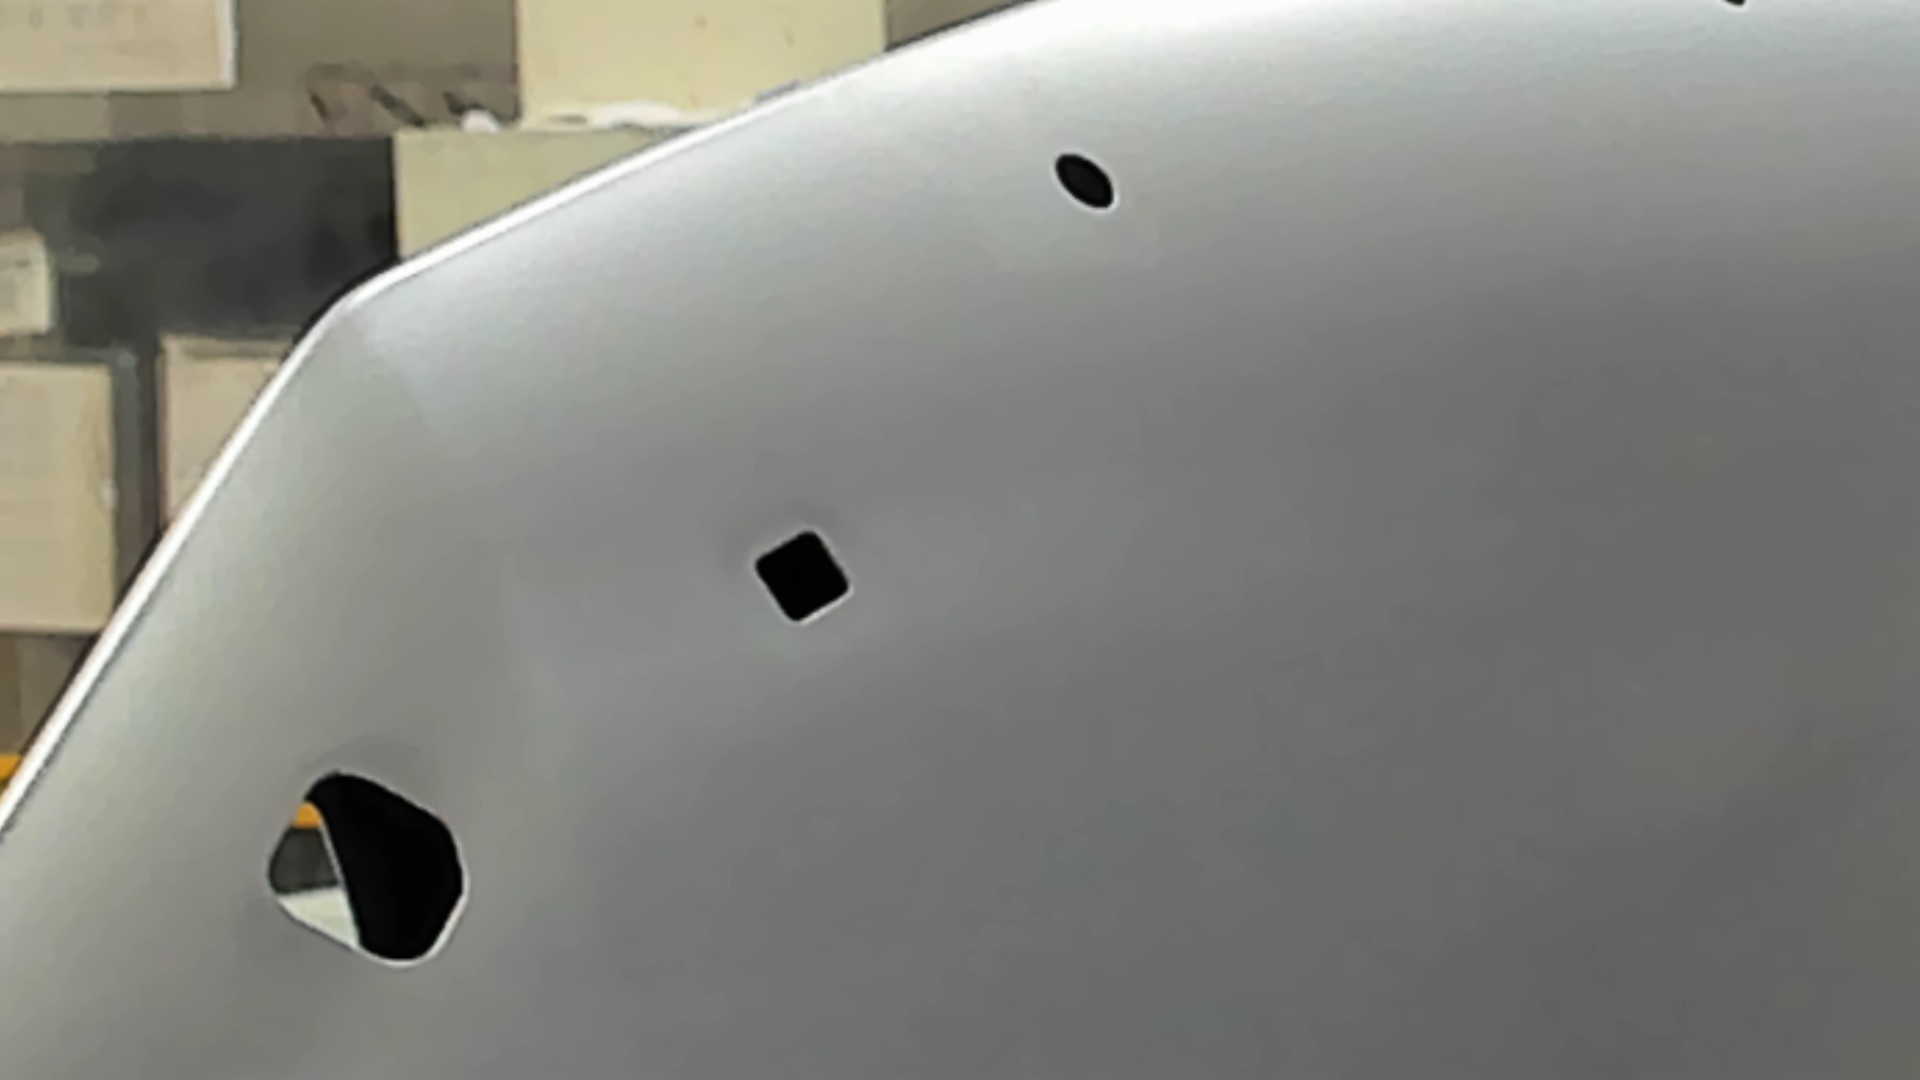chico: (1050, 152, 1116, 211)
grande: (262, 765, 475, 972)
mediano: (752, 522, 855, 628)
